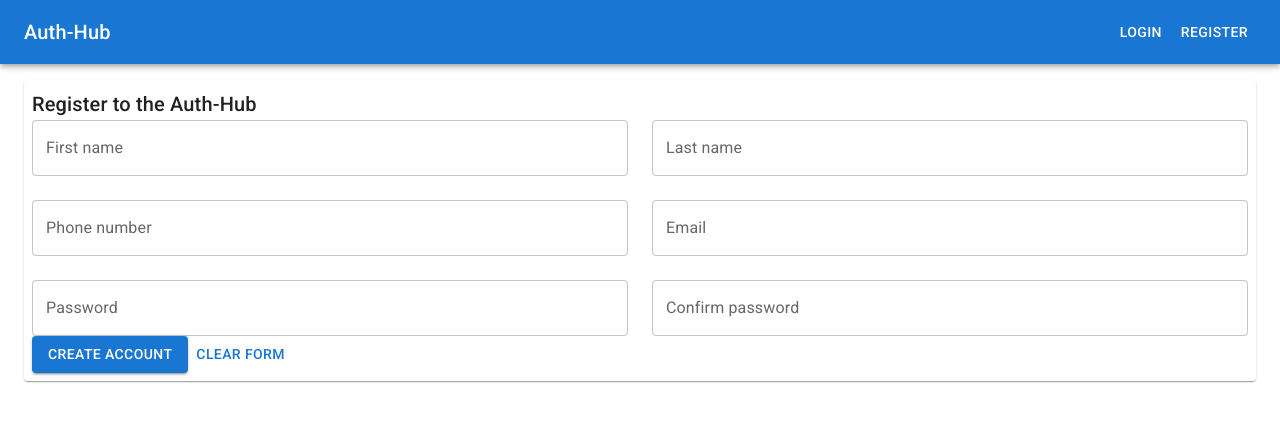
Public registration › shows errors and allows a successful retry
Type "Test" into the field labelled "First name" at x=330, y=148, box [32, 120, 628, 176]
Type "User" into the field labelled "Last name" at x=950, y=148, box [652, 120, 1248, 176]
Type "1234567890" into the field labelled "Phone number" at x=330, y=228, box [32, 200, 628, 256]
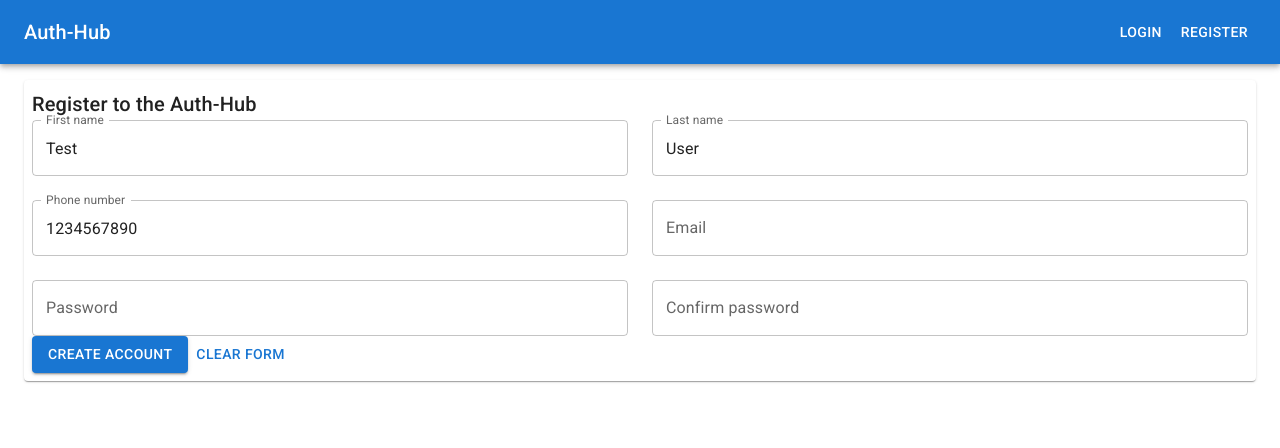
Type "new@example.com" into the field labelled "Email" at x=950, y=228, box [652, 200, 1248, 256]
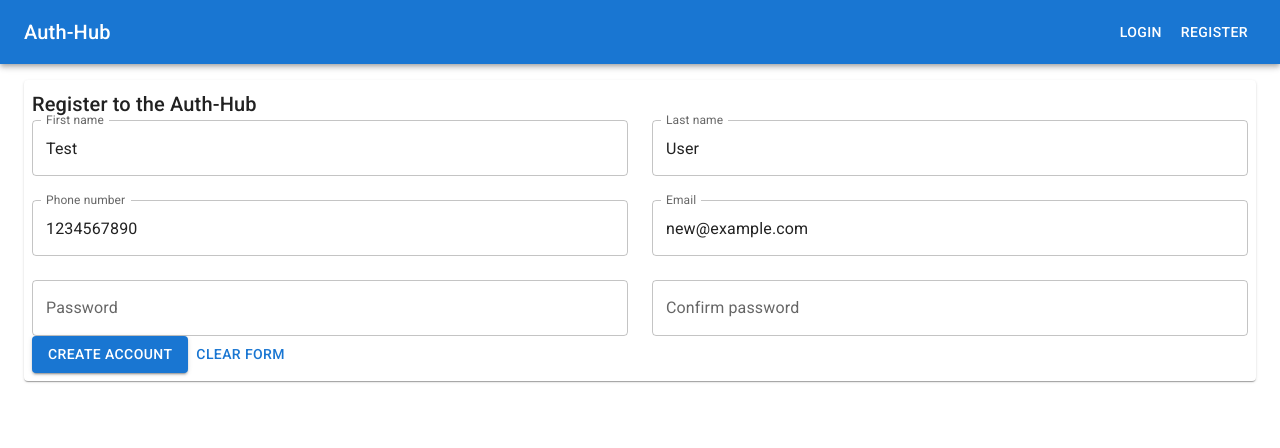
Type "TestPass123!" into the password field labelled "Password" at x=330, y=308, box [32, 280, 628, 336]
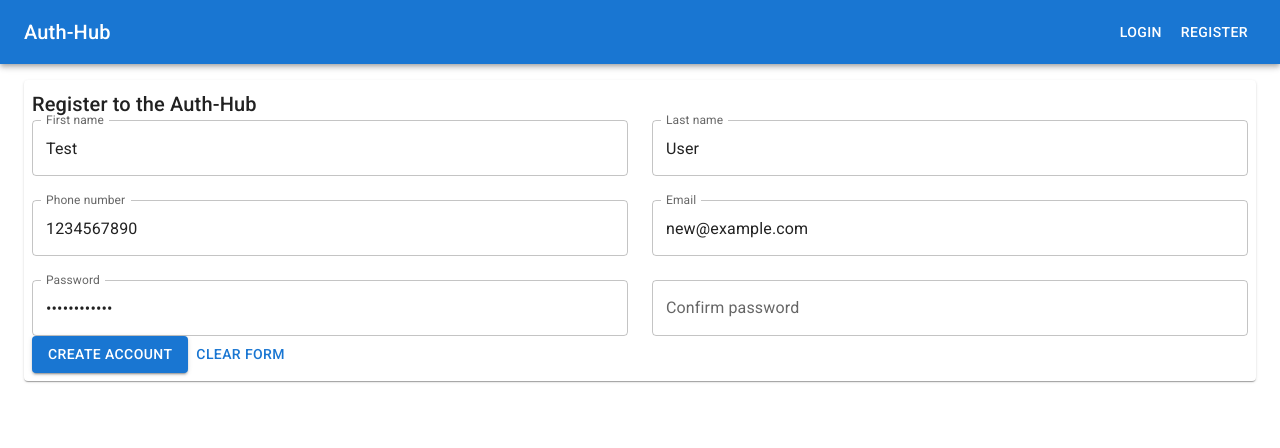
Type "TestPass123!" into the password field labelled "Confirm password" at x=950, y=308, box [652, 280, 1248, 336]
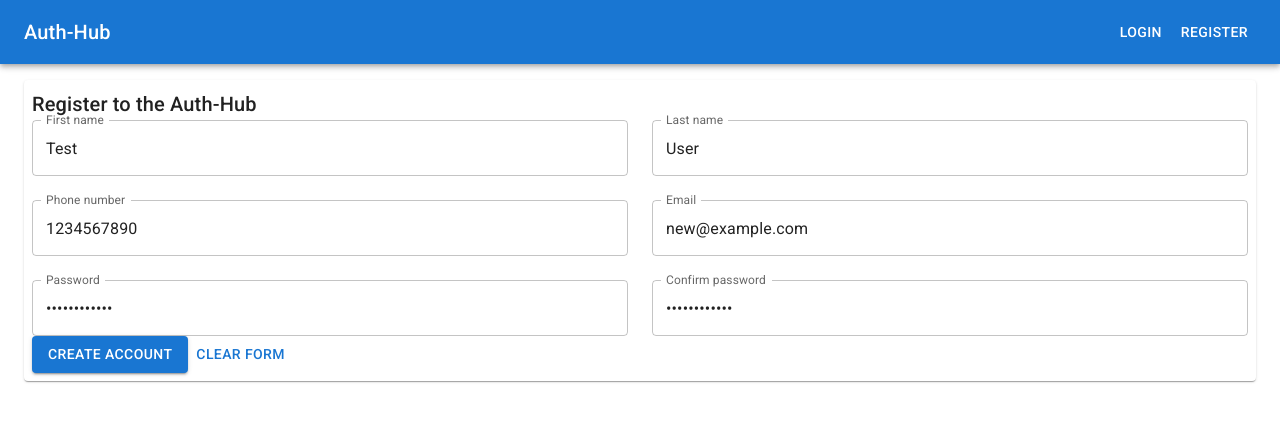
Click the button "Create Account" at x=110, y=354, box [32, 336, 188, 372]
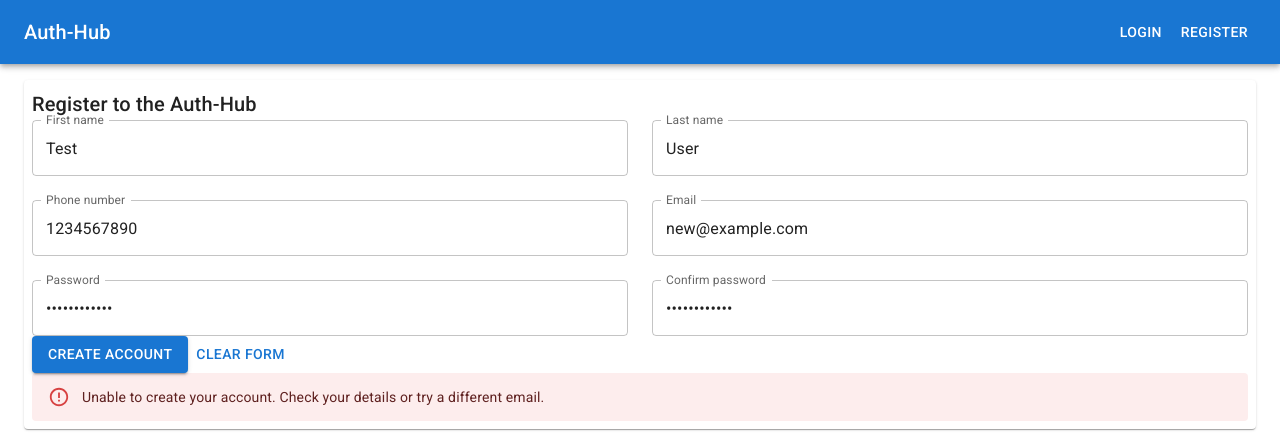
expect the text "Unable to create your account" is shown: met, box [82, 388, 544, 404]
Click the button "Create Account" at x=110, y=354, box [32, 336, 188, 372]
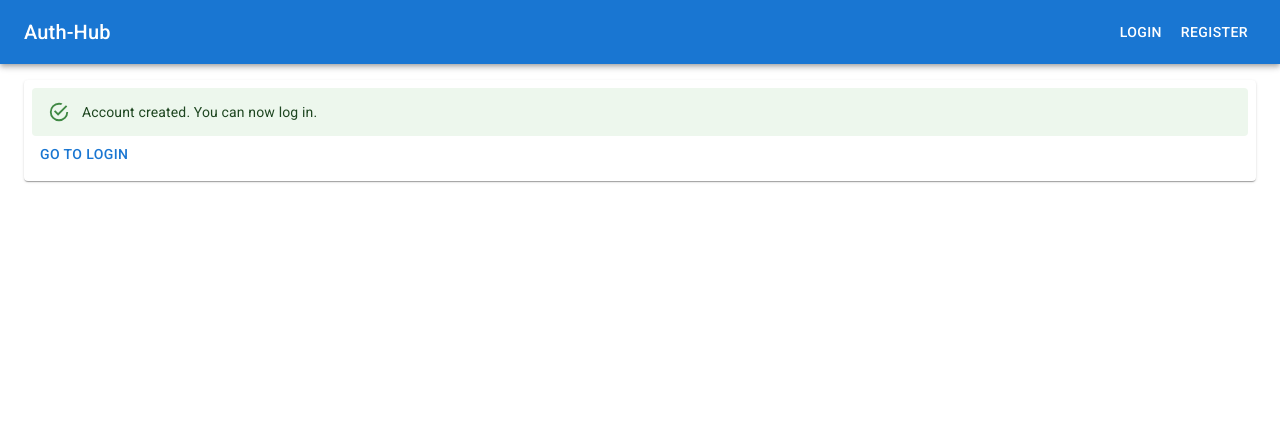
expect the text "Account created. You can now log in." is shown: met, box [82, 104, 317, 120]
